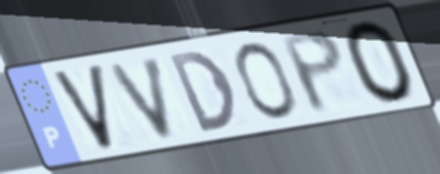D: (164, 47, 241, 136)
O: (341, 17, 418, 106), (232, 40, 301, 121)
P: (276, 27, 348, 117)
V: (47, 60, 118, 155), (104, 52, 176, 144)
